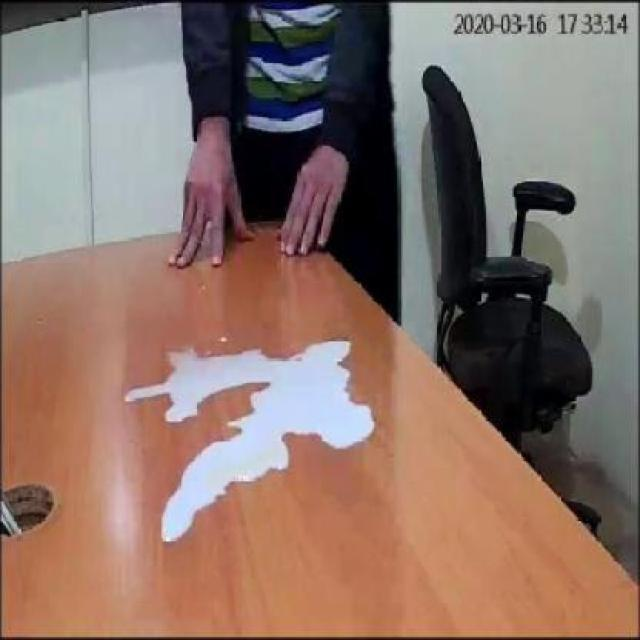spillage: (126, 342, 375, 542)
